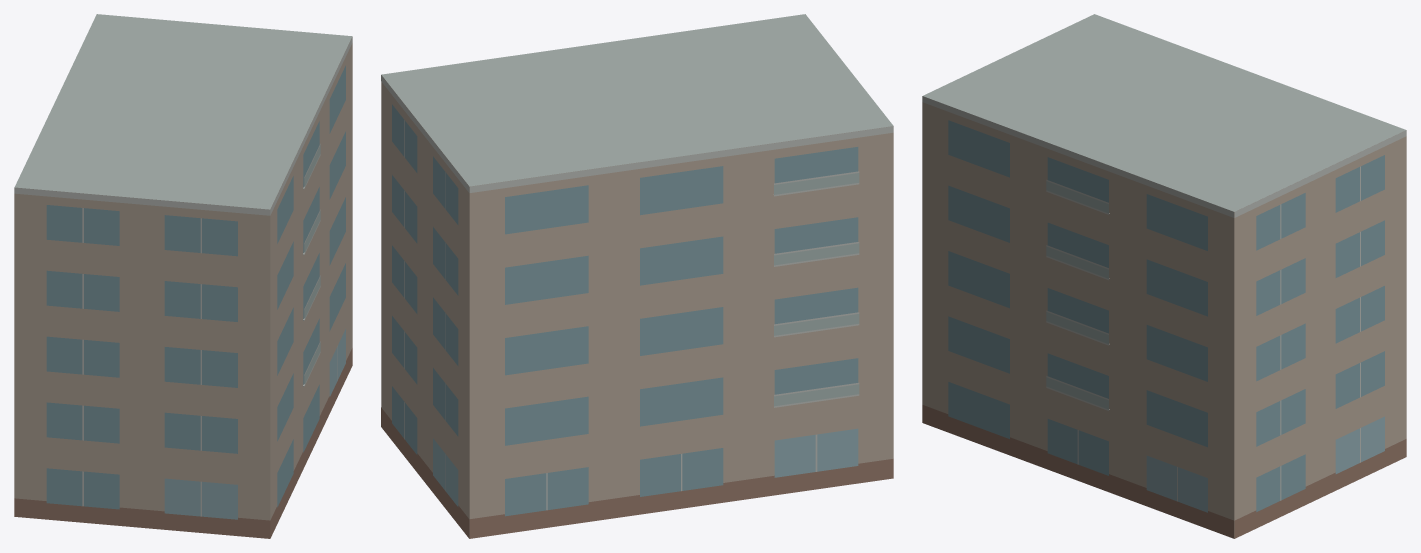
File: survey-upis-32783935.glb
3 views of the same model, side by side, from view 1: azimuth 30°, elevation 25°; view 2: azimuth 150°, elevation 25°; view 3: azimuth 270°, elevation 25° (orthographic). The views are drawn at different scales.
Visible parts, largest first — view 1: survey-upis-32783935.tmp; view 2: survey-upis-32783935.tmp; view 3: survey-upis-32783935.tmp.
Boxes of the visible parts, x1,y1,x2,y2 form: survey-upis-32783935.tmp: [14, 14, 352, 538]; survey-upis-32783935.tmp: [381, 14, 893, 538]; survey-upis-32783935.tmp: [922, 14, 1406, 538].
Size of the model in its own units: 16.82 by 12.95 by 17.38.
